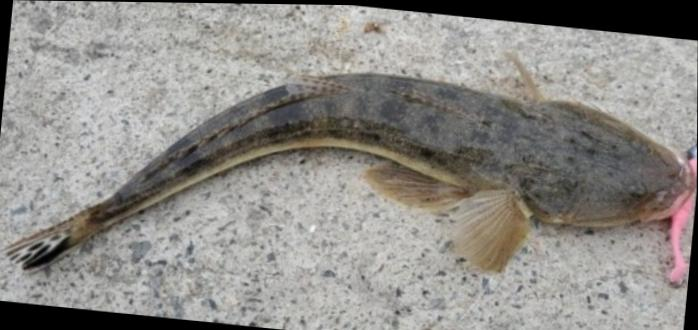fish: (5, 50, 697, 275)
